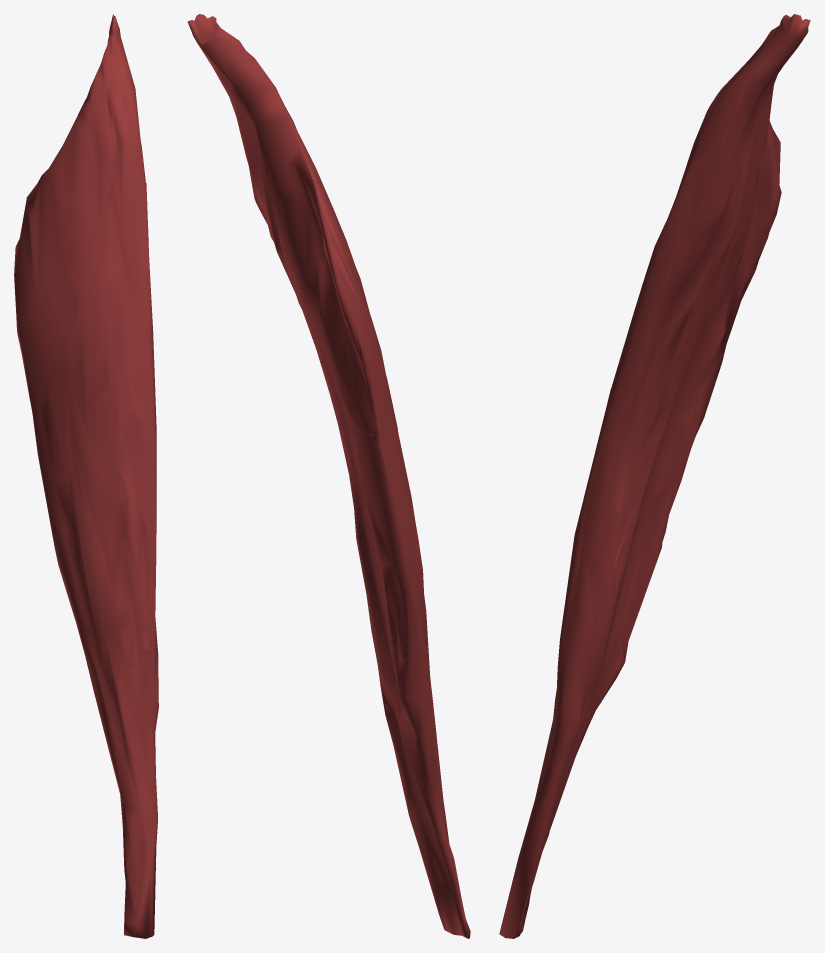
File: radial-head-of-flexor-digitorum-superficialis-r.glb
3 renders of one model, left to right at view 1: azimuth 30°, elevation 25°; view 2: azimuth 150°, elevation 25°; view 3: azimuth 270°, elevation 25°, orthographic. The views are drawn at different scales.
Visible parts, largest first — view 1: Radial head of flexor digitorum superficialis.r; view 2: Radial head of flexor digitorum superficialis.r; view 3: Radial head of flexor digitorum superficialis.r.
Part boxes in pixels (bbox=[...]): Radial head of flexor digitorum superficialis.r: bbox=[14, 14, 158, 938]; Radial head of flexor digitorum superficialis.r: bbox=[187, 14, 470, 938]; Radial head of flexor digitorum superficialis.r: bbox=[499, 14, 810, 938].
Size of the model in its own units: 0.0291 by 0.1849 by 0.0537.
